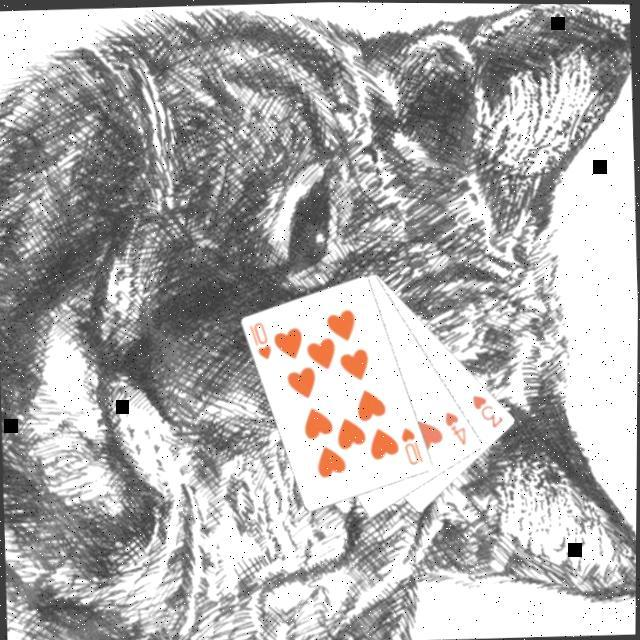10H: (246, 316, 276, 362), (399, 421, 429, 466)
3H: (470, 390, 507, 430)
4H: (442, 405, 471, 446)
